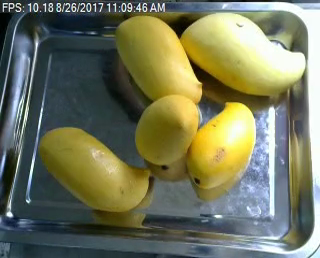Mango: (179, 12, 308, 96), (32, 124, 156, 211), (113, 15, 205, 105), (184, 97, 255, 193), (136, 94, 202, 167)
